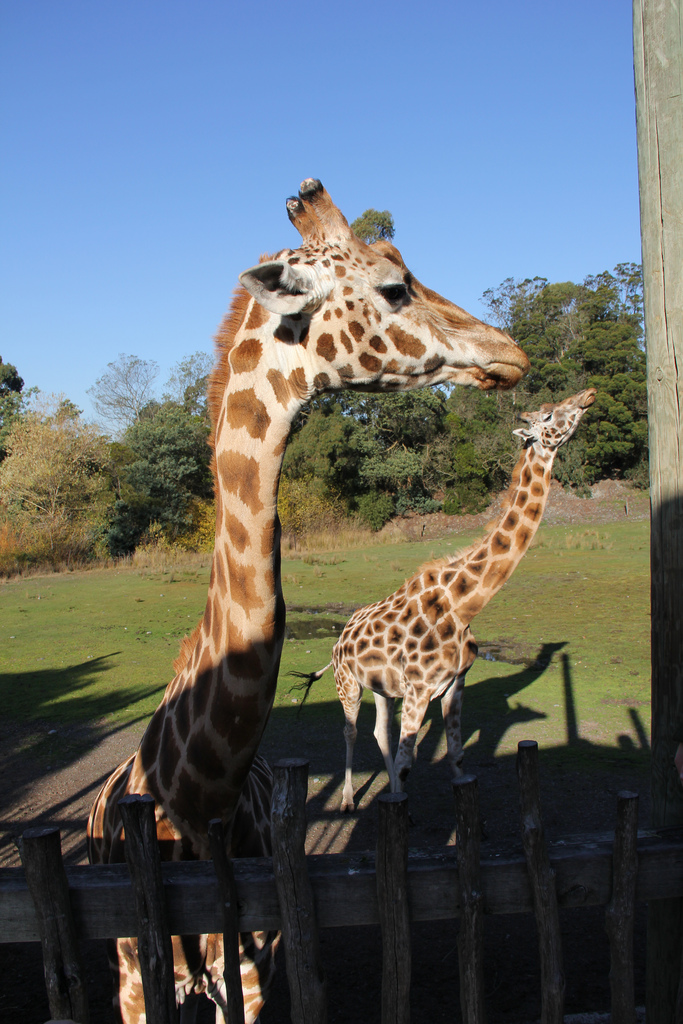giraffe: (119, 190, 524, 858), (299, 369, 603, 859)
